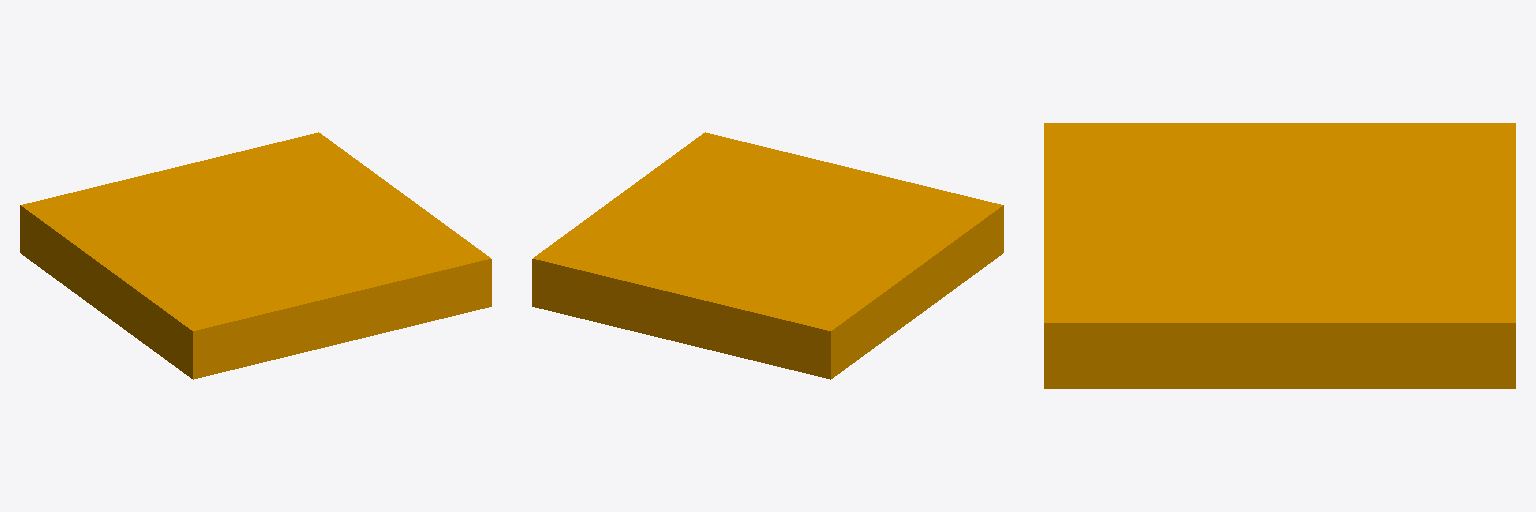
URDF robot description (ar_2020):
<robot name="ar_2020">

	<!-- * * * Link Definitions * * * -->

    <link name="simple_box_base_link">
 	    <inertial>
            <origin xyz="0 0 0" rpy="0 0 0"/>
            <mass value="1.0" />
            <inertia ixx="0.0741666666667" ixy="0.0" ixz="0.0" iyy="0.0585416666667" iyz="0.0" izz="0.0260416666667"/>
        </inertial>
        <collision>
            <origin xyz="0 0 0" rpy="0 0 0"/>
            <geometry>
                <box size="0.2 0.2 0.2"/>
            </geometry>
        </collision>
        <visual>
            <origin rpy="0.0 0 0" xyz="0 0 0"/>
            <geometry>
                <!--<box size="0.8 0.8 0.2"/>-->
                <mesh filename="package://arabv_sim/includes/ar_2020_v2.dae"/>
            </geometry>
        </visual>
    </link>
    
    <gazebo reference="simple_box_base_link">
        <kp>100000.0</kp>
        <kd>100000.0</kd>
        <mu1>0.1</mu1>
        <mu2>0.1</mu2>
        <fdir1>1 0 0</fdir1>
    </gazebo>

</robot>

--- Render facts (derived) ---
The picture shows the robot from 3 angles, left to right: view 1: azimuth 30°, elevation 25°; view 2: azimuth 150°, elevation 25°; view 3: azimuth 270°, elevation 25°; orthographic projection.
Robot: ar_2020 — 1 links, 0 joints (none); root link simple_box_base_link; default pose: all joints at 0.
Links seen in each view (by area): view 1: simple_box_base_link; view 2: simple_box_base_link; view 3: simple_box_base_link.
Link boxes in pixels (bbox=[...]): simple_box_base_link: bbox=[20, 132, 491, 379]; simple_box_base_link: bbox=[532, 132, 1003, 379]; simple_box_base_link: bbox=[1044, 123, 1515, 388].
Bounding box of the posed robot: 0.09 × 0.09 × 0.0139 m (x, y, z).
1 mesh visuals loaded from 1 distinct referenced files (1 Collada DAE).